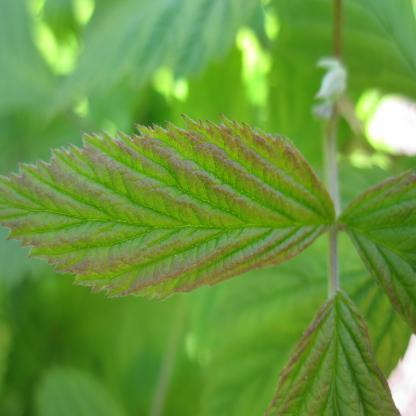raspberry leaf: (0, 114, 334, 302), (261, 289, 401, 416)
